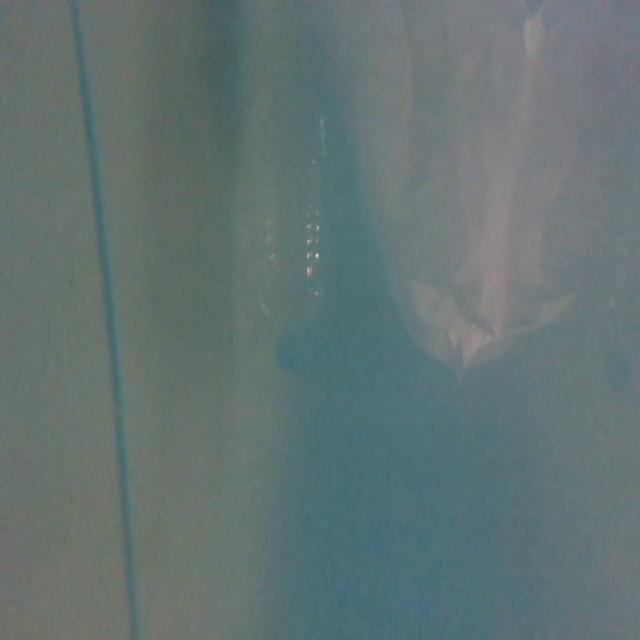plastic bags: (330, 0, 630, 370)
plastic bottle: (233, 79, 327, 372)
